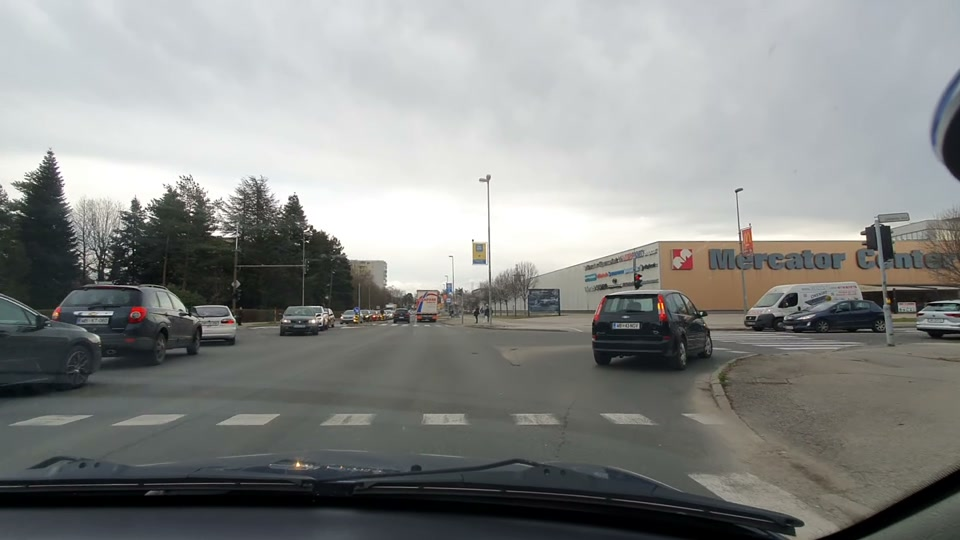vehicle_ign: (574, 272, 722, 381), (45, 276, 202, 373), (0, 287, 107, 403), (174, 296, 242, 358)
vehicle_r: (739, 279, 866, 331), (783, 300, 894, 340)
vehicle_s: (276, 301, 329, 341)
